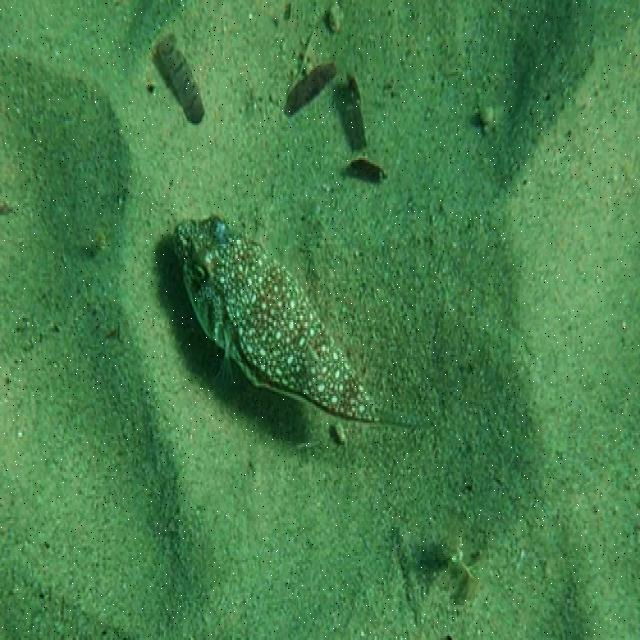Balik: (175, 218, 383, 422)
